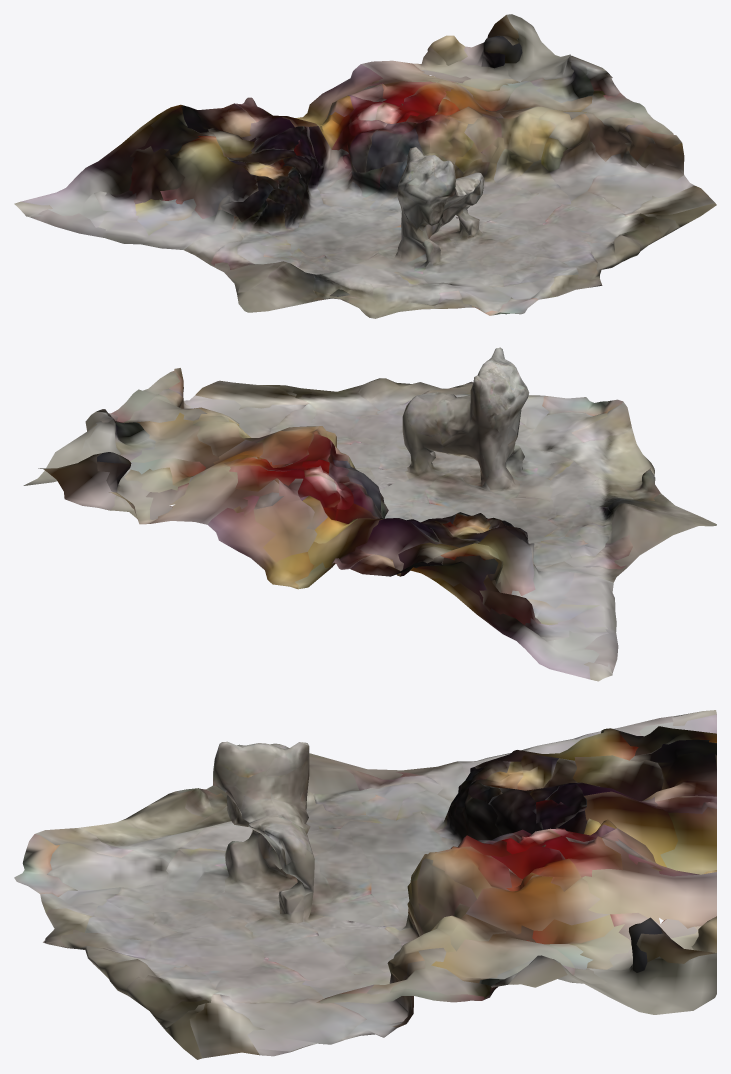
Rendered from hall.glb.
3 renders of one model, top to bottom at view 1: azimuth 30°, elevation 25°; view 2: azimuth 150°, elevation 25°; view 3: azimuth 270°, elevation 25°, orthographic. The views are drawn at different scales.
Bounding box in the file's own units: 3.61 × 0.7381 × 2.99.
Materials: 1 (1 with a texture image).
